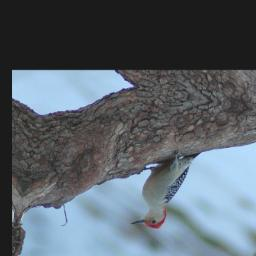Woodpecker: (128, 140, 203, 236)
